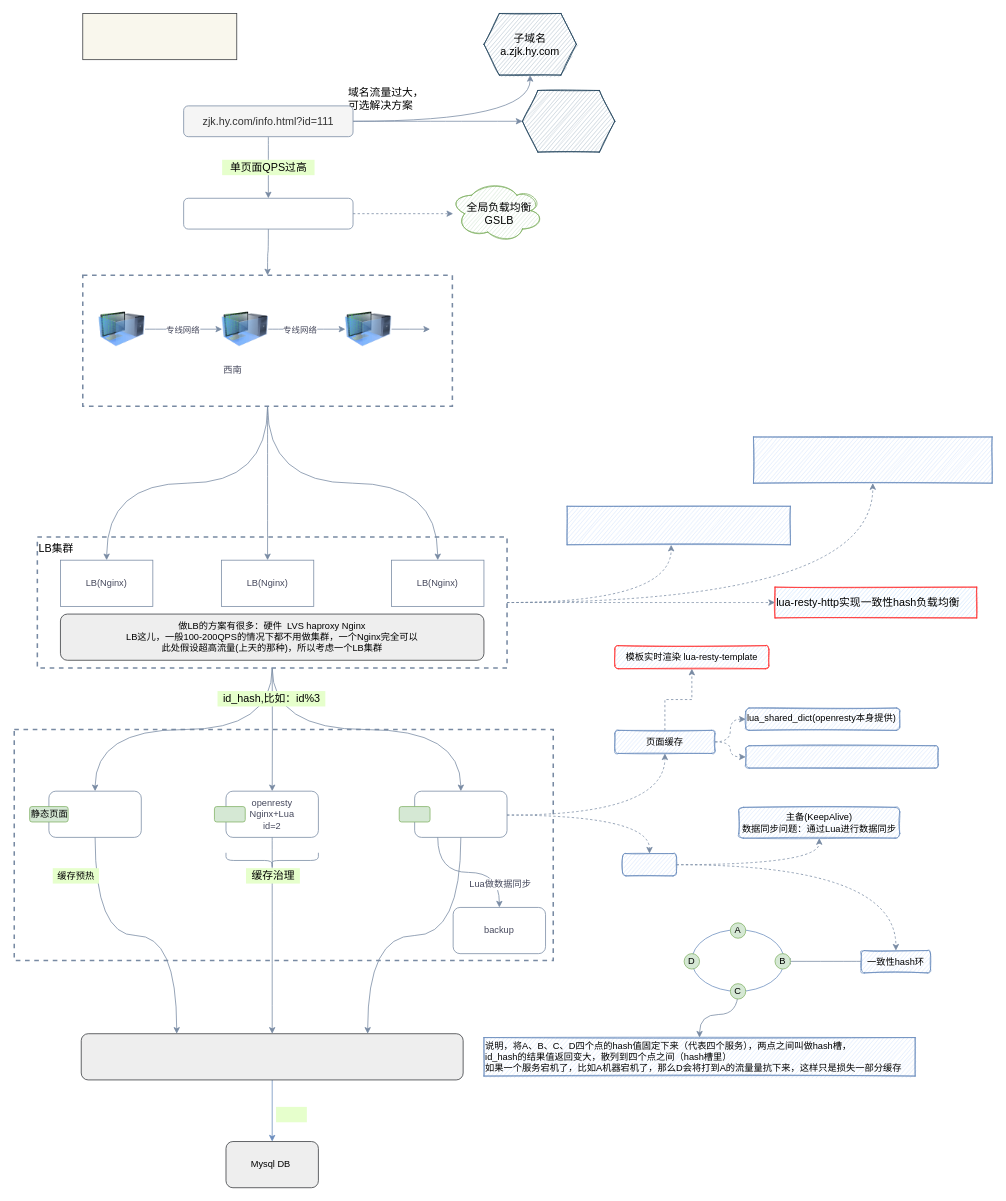
This 1006x1201 diagram has some shape labels left out. Each missing label, with the box of its shape:
lua-resty-lrucache(lua实现的一个开源的东西): (745, 745, 938, 768)
openresty Nginx+Lua id=1: (48, 790, 141, 837)
openresty Nginx+Lua id=3: (414, 790, 507, 837)
Redis Cluster: (80, 1033, 463, 1080)
不同的后缀 zjk.hy.com/produc zjk.hy.com/user: (522, 90, 615, 152)
区域机房: (82, 274, 453, 407)
华北: (99, 298, 145, 360)
场景： zjk.hy.com/info.html QPS特别高，上天的那种: (82, 13, 237, 60)
智能DNS: (183, 198, 353, 229)
此处选择Nginx的原因是方便自己定义策略，采用id_hash的方式来确定下游服务器: (566, 506, 790, 545)
穿透: (276, 1106, 306, 1122)
美国: (345, 298, 391, 360)
节点高可用: (622, 853, 676, 876)
负载均衡策略： 轮询、 ip_hash、 权重 等等 ip_hash有个明显的问题，我们不知道ip具体的值，不知道最后流量会打到哪台机器上: (753, 436, 992, 483)
